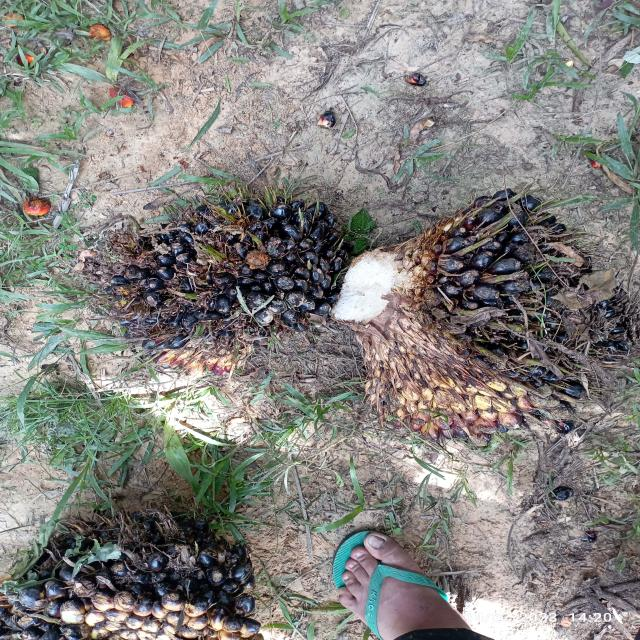fraksi 00: (71, 158, 354, 389), (356, 176, 596, 419)
